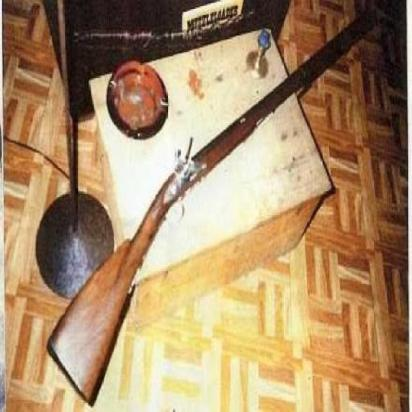Gun: (50, 13, 385, 346)
